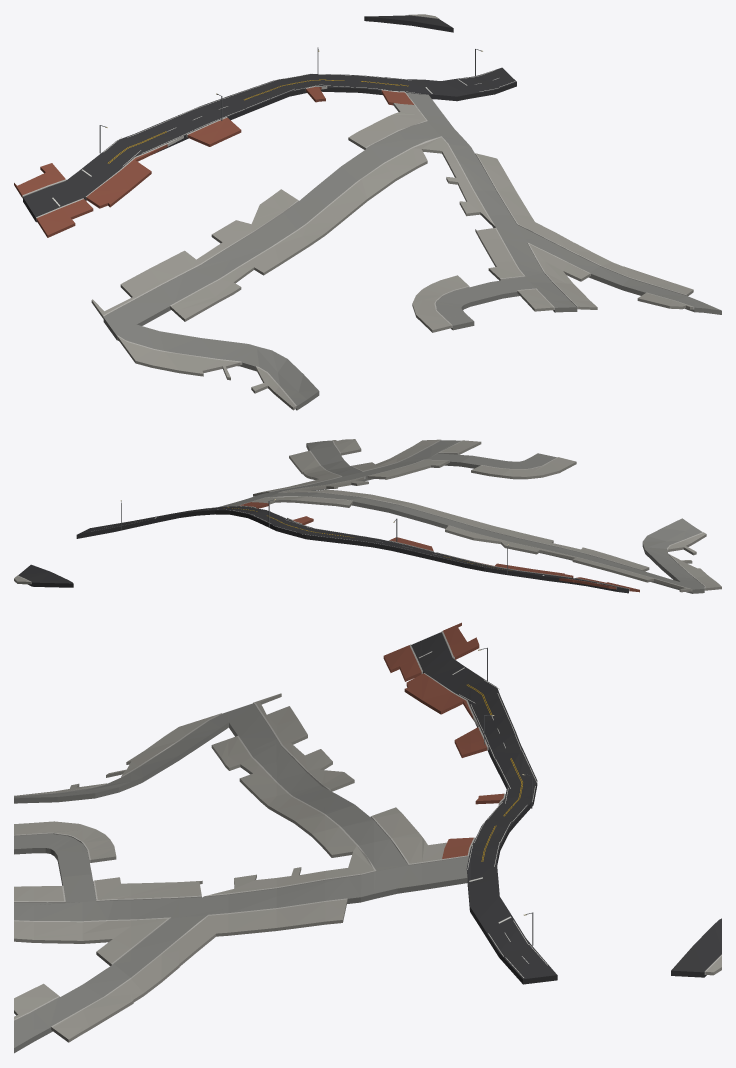
3 renders of one model, top to bottom at view 1: azimuth 30°, elevation 25°; view 2: azimuth 150°, elevation 25°; view 3: azimuth 270°, elevation 25°, orthographic. The views are drawn at different scales.
Size of the model in its own units: 147 by 39.61 by 146.
